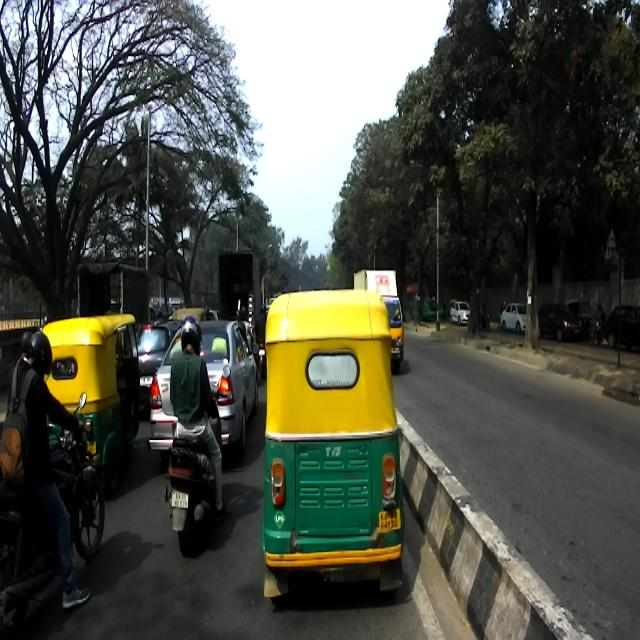auto ahead at: (262, 294, 407, 610)
motorcycle ahead at: (0, 394, 102, 628), (159, 428, 231, 562)
